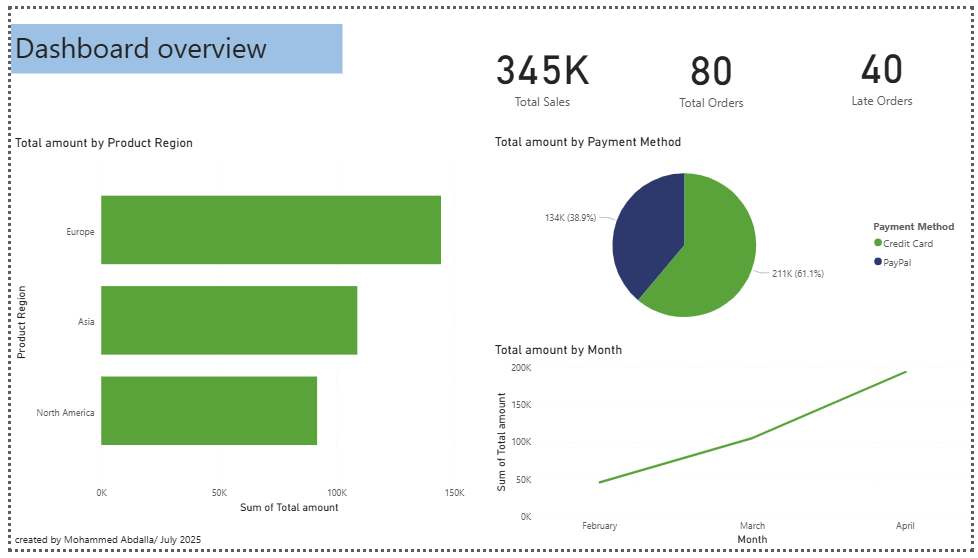

The page's visual inventory and layout, read from the dashboard file:
{"tool":"powerbi","page":{"name":"Dashboard Overview","canvas":[1280,720],"ordinal":0},"visuals":[{"type":"card","fields":{"Values":["Sales (2).Total Sales"]},"box":[589.6,0,236.2,168.2],"z":0},{"type":"card","fields":{"Values":["Sales (2).Total Orders"]},"box":[825.8,1.9,215.4,168.2],"z":1000},{"type":"card","fields":{"Values":["Sales (2).Late Orders"]},"box":[1041.3,0,238.1,166.3],"z":2000},{"type":"barChart","title":"Total amount by Product Region","fields":{"Category":["Sales (2).Product Region"],"Y":["Sum(Sales (2).Total amount)"]},"box":[0,168.2,640.6,508.4],"z":3000},{"type":"pieChart","title":"Total amount by Payment Method","fields":{"Category":["Sales (2).Payment Method"],"Y":["Sum(Sales (2).Total amount)"]},"box":[640.6,166.3,638.7,277.8],"z":4000},{"type":"lineChart","title":"Total amount by Month","fields":{"Category":["Sales (2).Order Date.Variation.Date Hierarchy.Month"],"Y":["Sum(Sales (2).Total amount)"]},"box":[640.6,444.1,638.7,275.9],"z":5000},{"type":"textbox","box":[0,20.8,442.2,66.1],"z":5001},{"type":"textbox","box":[0,691.7,272.1,28.3],"z":5002}]}

Visuals, with their boxes in screenshot pixels (x1, y1, x2, y2), scaled from the page's 1280x720 canvas onto the 978x558 screenshot:
card - Sales (2).Total Sales: [x1=450, y1=0, x2=631, y2=130]
card - Sales (2).Total Orders: [x1=631, y1=1, x2=796, y2=132]
card - Sales (2).Late Orders: [x1=796, y1=0, x2=977, y2=129]
"Total amount by Product Region" barChart: [x1=0, y1=130, x2=489, y2=524]
"Total amount by Payment Method" pieChart: [x1=489, y1=129, x2=977, y2=344]
"Total amount by Month" lineChart: [x1=489, y1=344, x2=977, y2=557]
textbox: [x1=0, y1=16, x2=338, y2=67]
textbox: [x1=0, y1=536, x2=208, y2=557]
